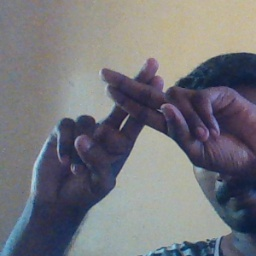F: (65, 52, 208, 173)
